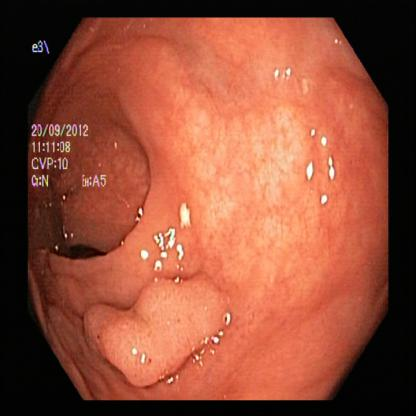Labels: (27, 114, 112, 195)
Polyps: (70, 281, 224, 381)
